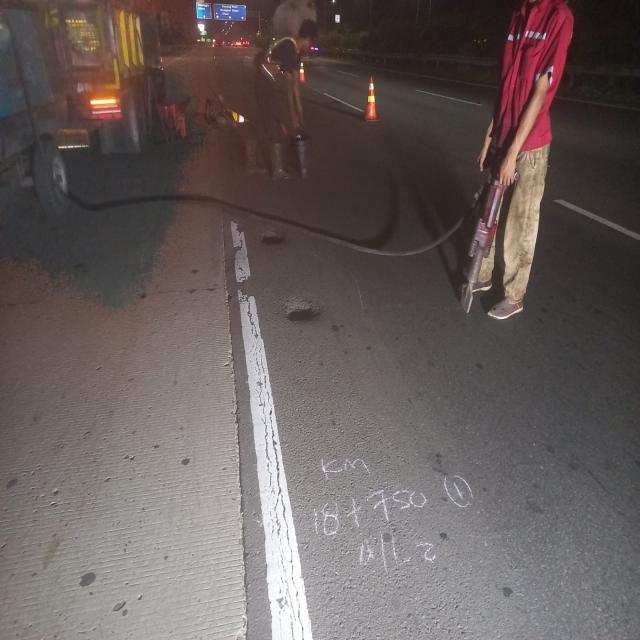Buraco: (281, 298, 324, 325), (257, 228, 287, 248)
